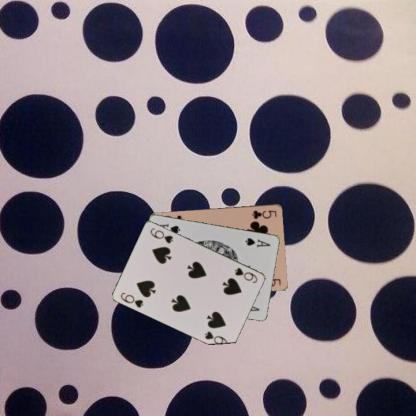5c: (250, 208, 277, 219)
6s: (232, 265, 259, 284), (118, 290, 145, 309)
As: (242, 235, 272, 248)
